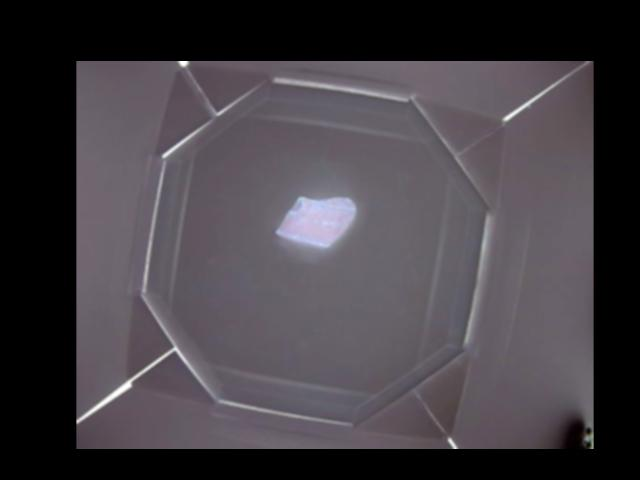China: (275, 191, 356, 250)
